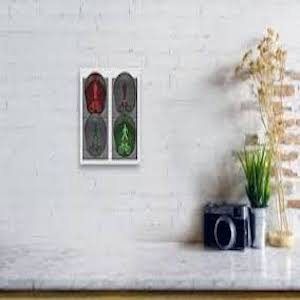green: (116, 121, 134, 157)
